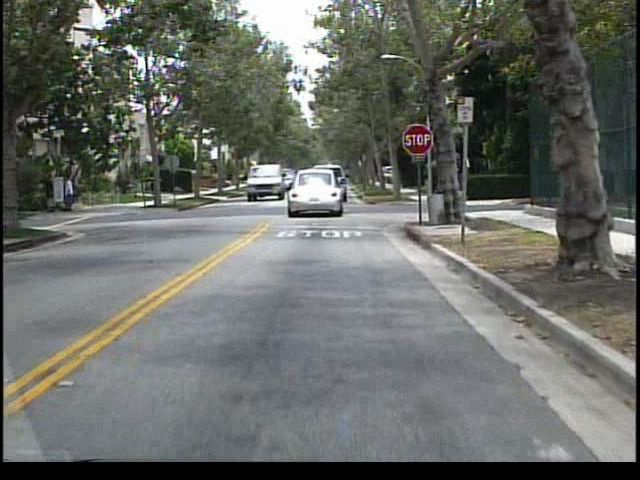person: (64, 168, 79, 214), (45, 170, 60, 215)
